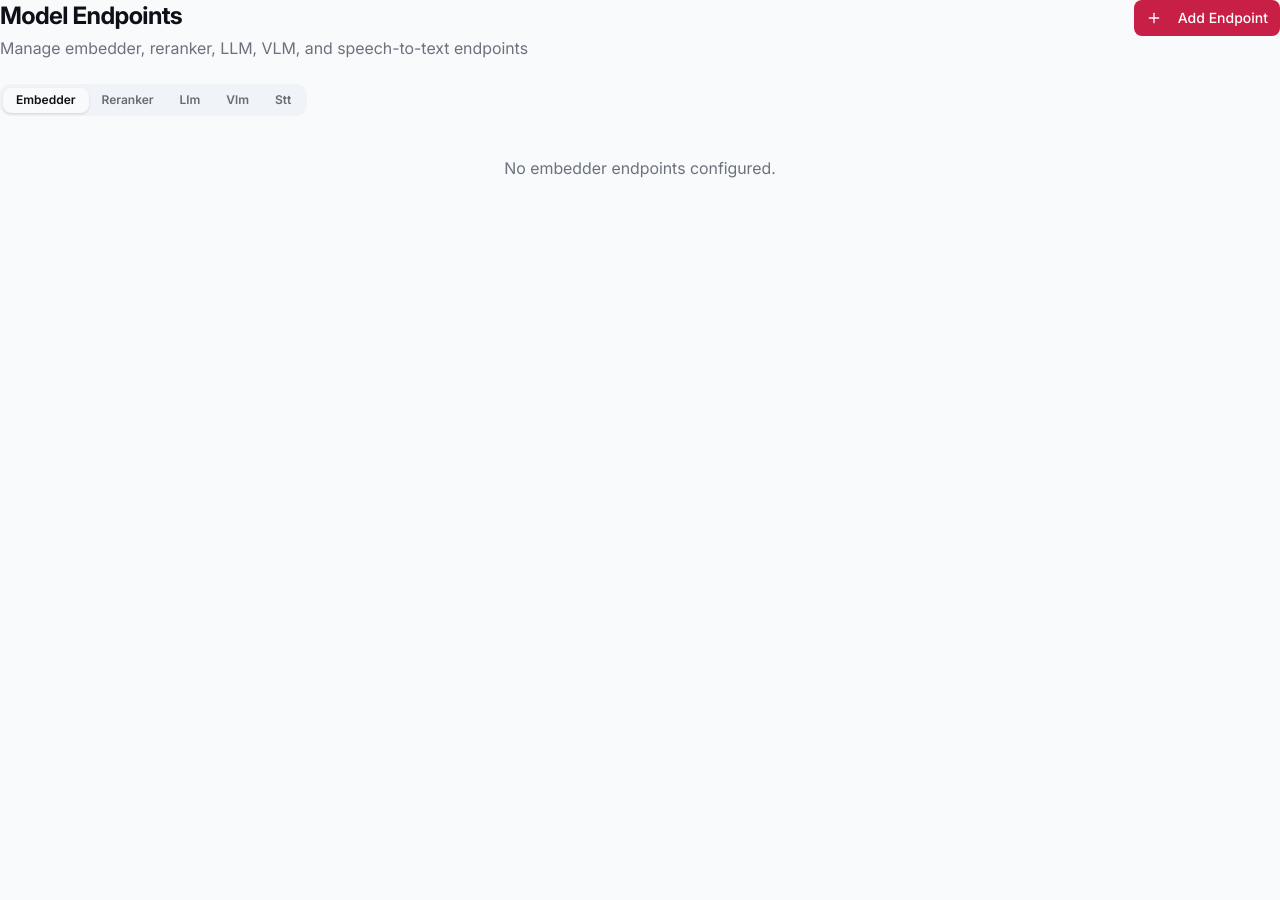
Scenario: ModelsPage validation › requires revalidation after changing speaker-aware MOSS normalization
The image size is (1280, 900).
Check: the text "No embedder endpoints configured." is shown, box top-left (504, 158), bottom-right (776, 178)
Click the tab "stt" at (283, 100), box top-left (262, 88), bottom-right (304, 112)
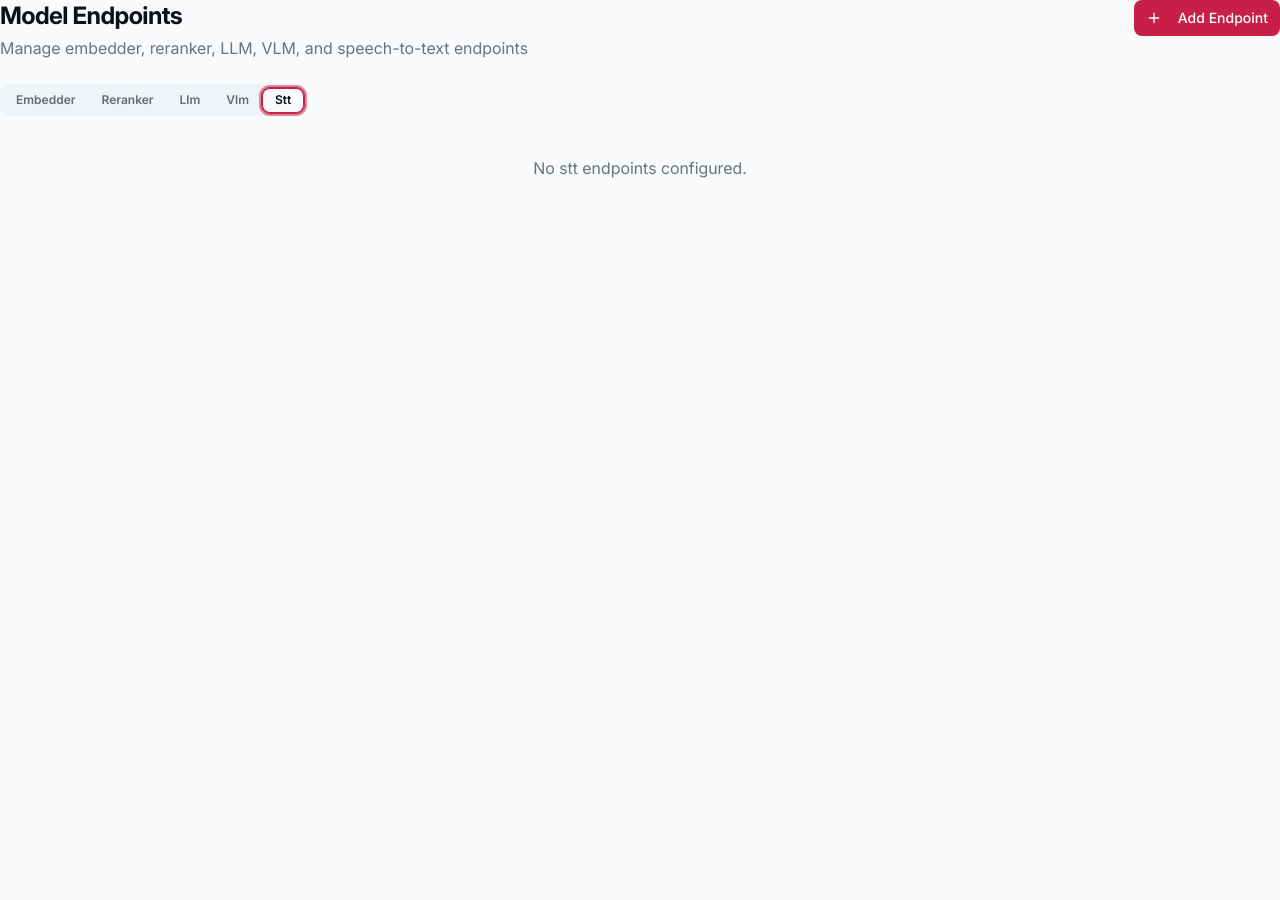
Click the button "Add Endpoint" at (1207, 18), box top-left (1134, 0), bottom-right (1279, 36)
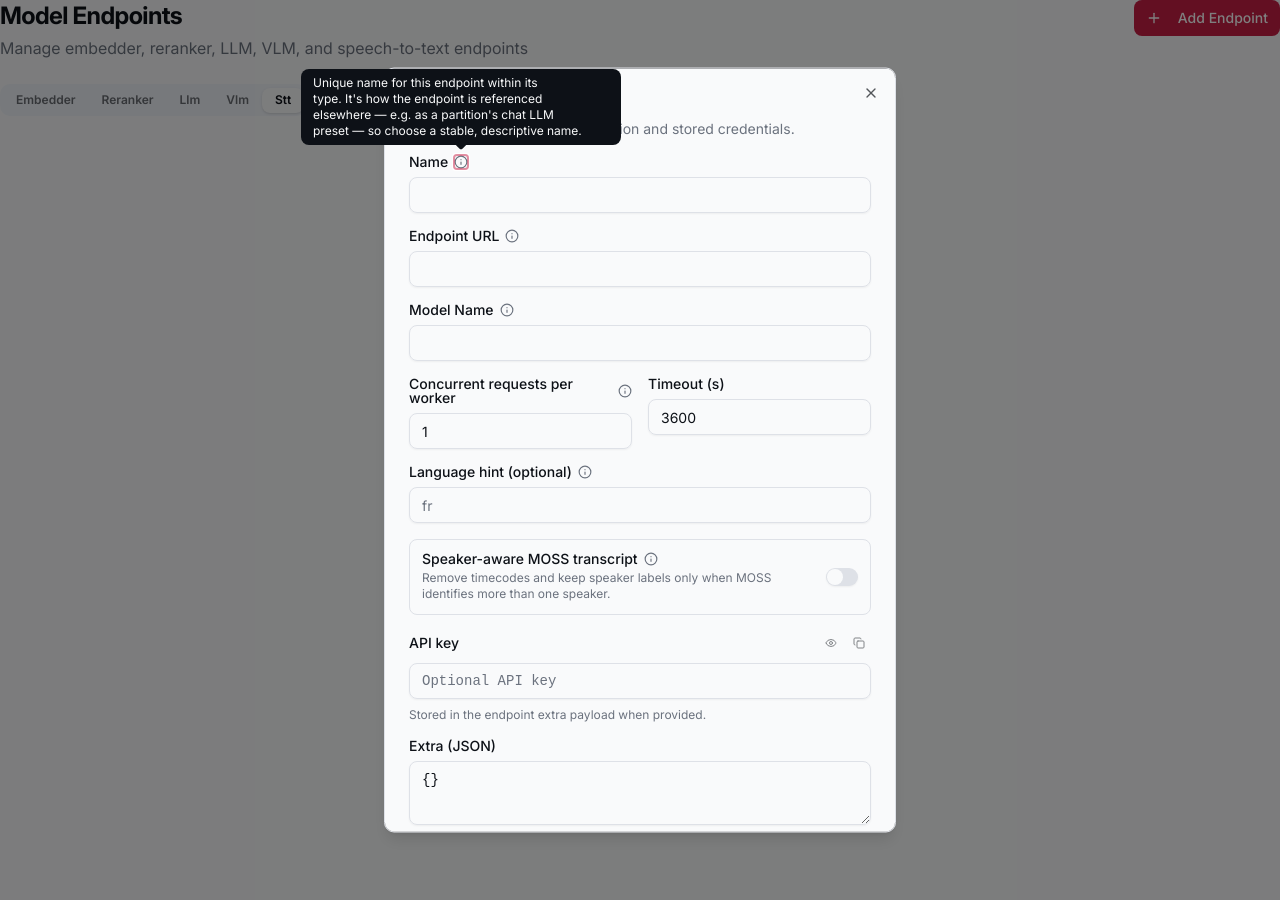
Type "http://moss:8000/v1" into the field below "Endpoint URL" at (640, 268), box top-left (409, 250), bottom-right (871, 286)
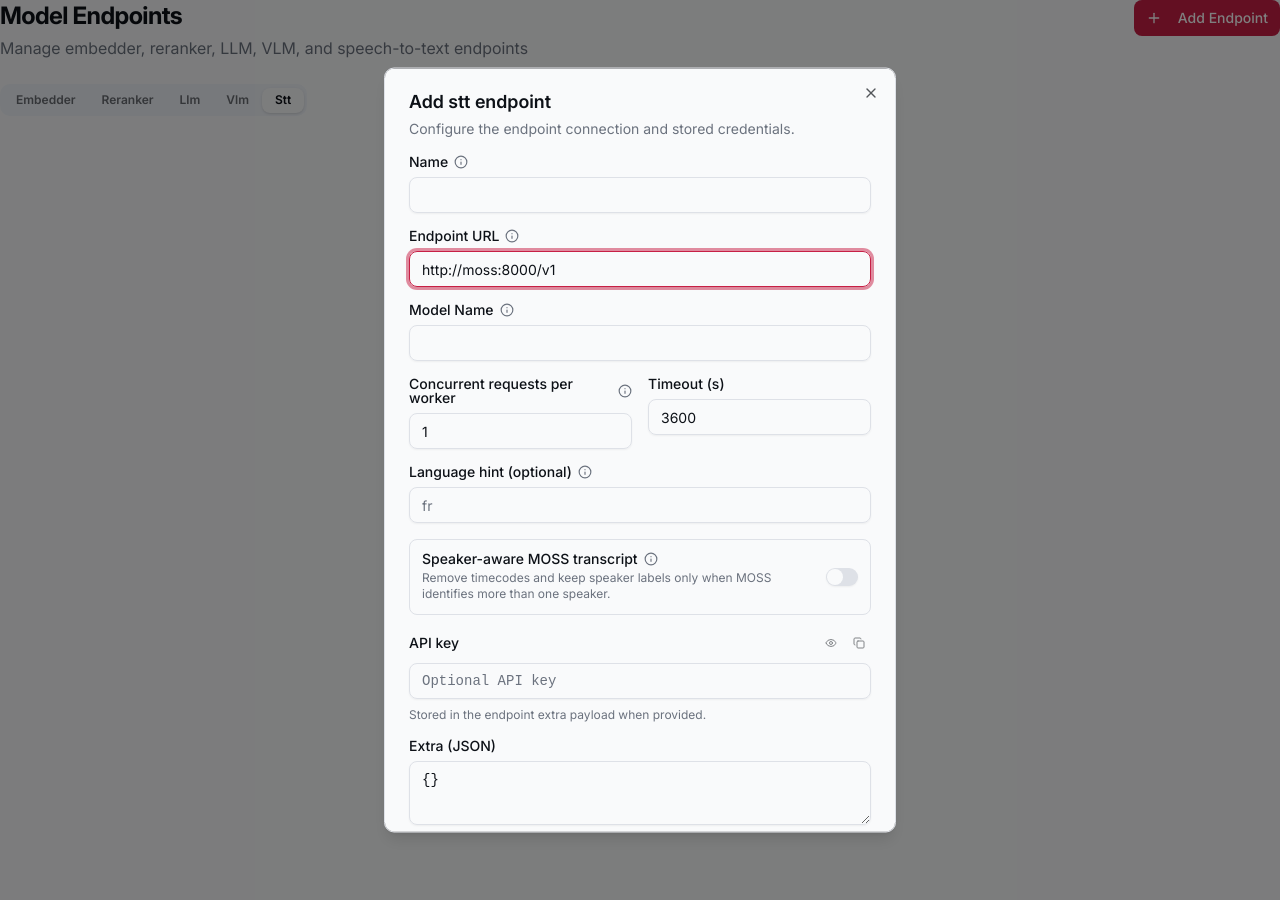
Type "moss-transcribe-diarize" into the field below "Model Name" at (640, 342), box top-left (409, 324), bottom-right (871, 360)
(page scrolled)
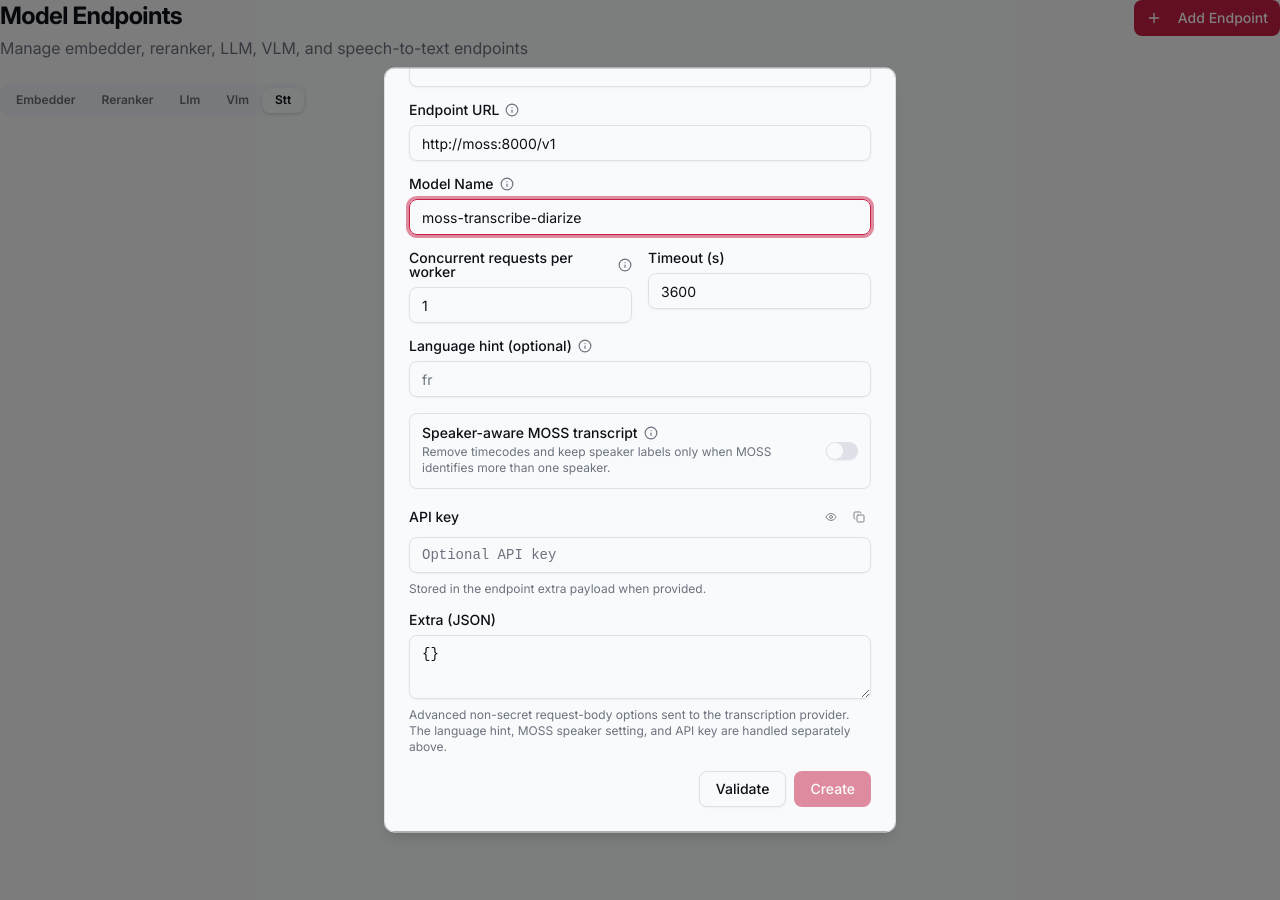
Click the button "Validate" at (743, 790), box top-left (699, 772), bottom-right (786, 808)
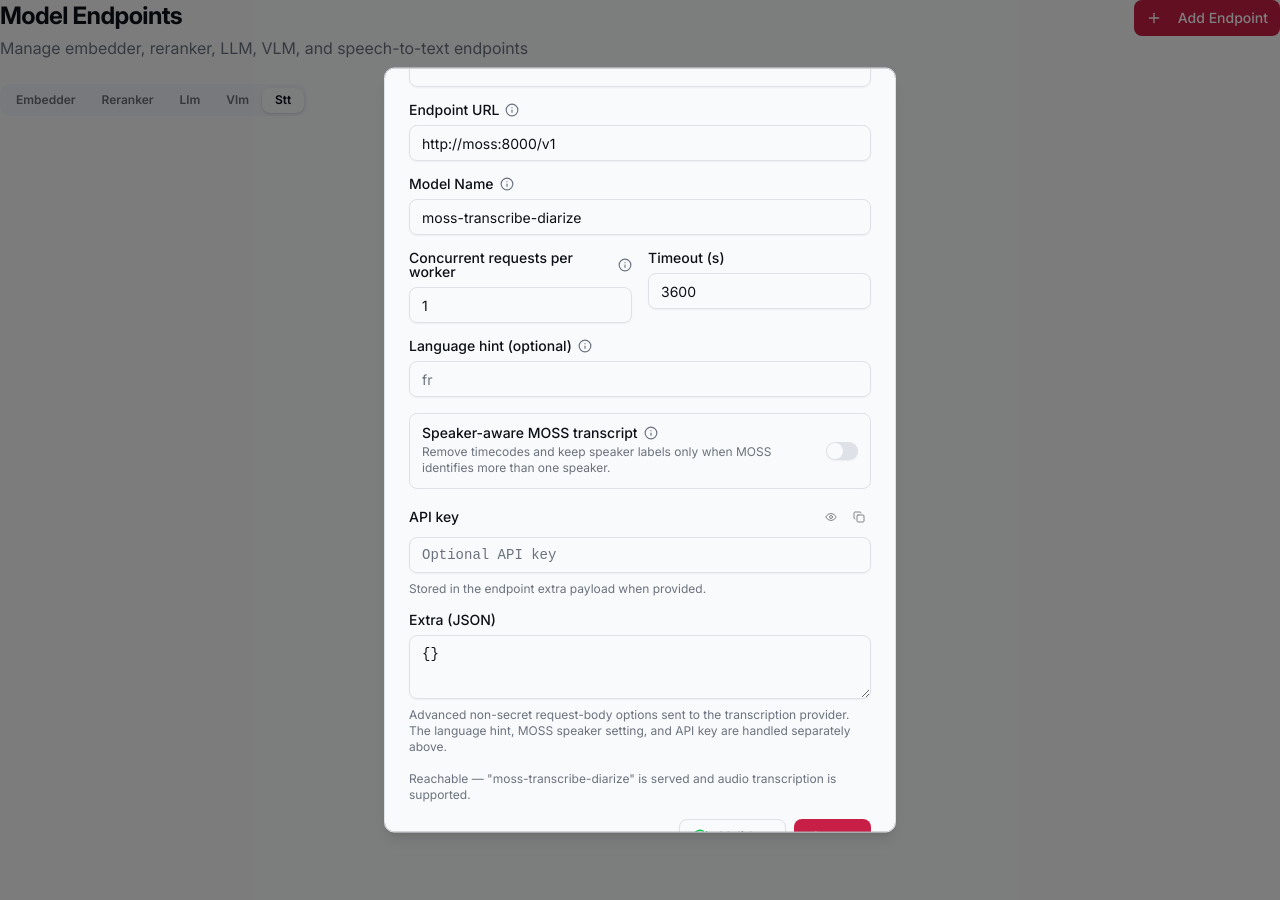
Click the switch named "Enable speaker-aware MOSS transcript normalization" at (842, 452), box top-left (826, 442), bottom-right (858, 461)
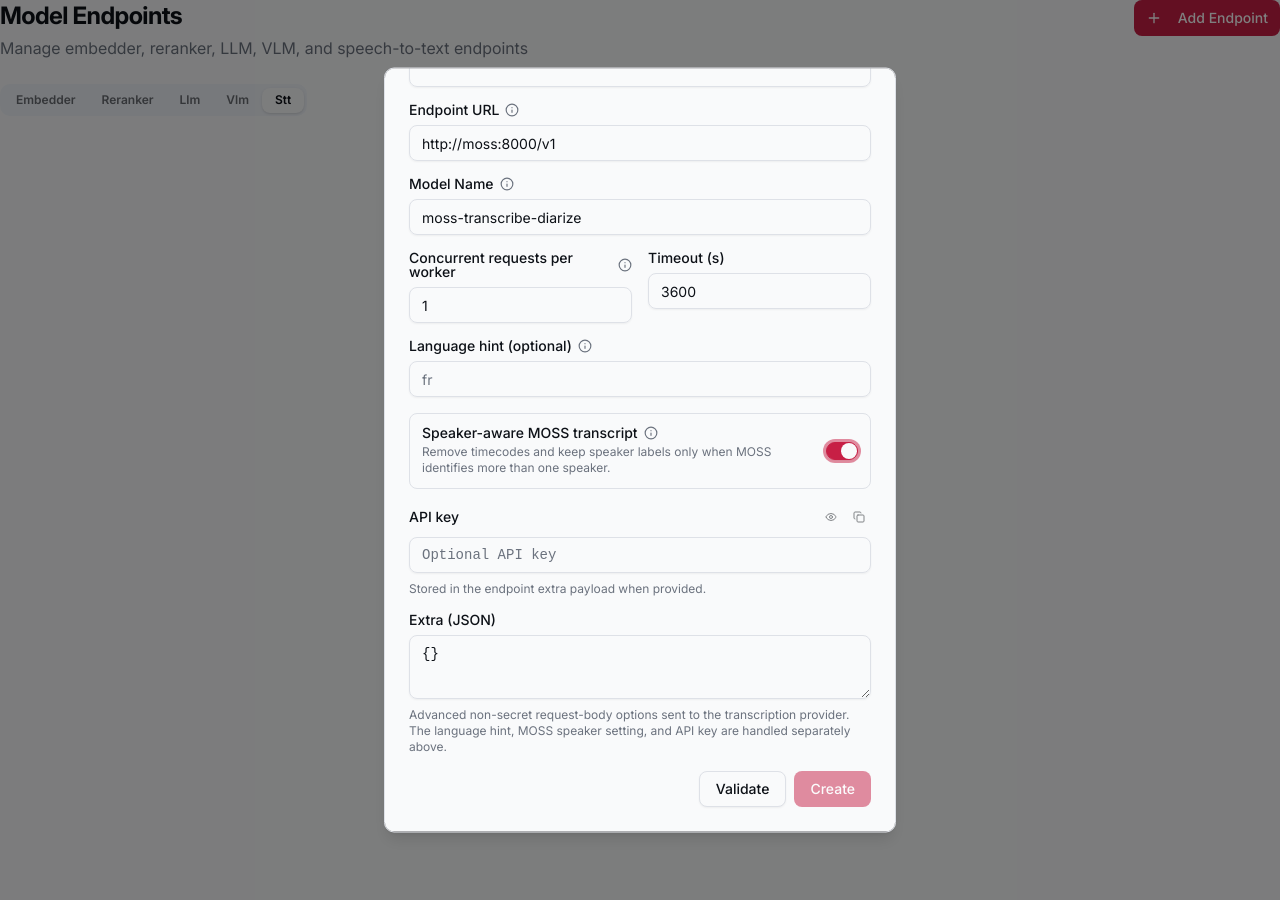
Check: the button "Create" is disabled, box top-left (794, 772), bottom-right (871, 808)
